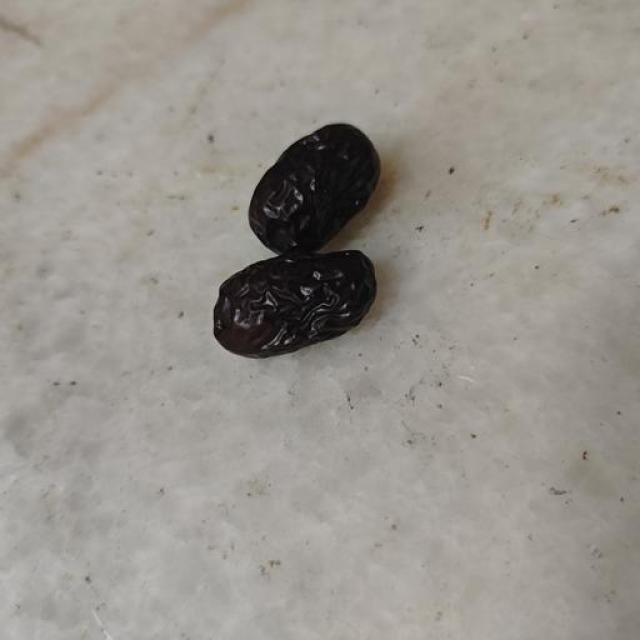organic: (169, 121, 500, 436)
